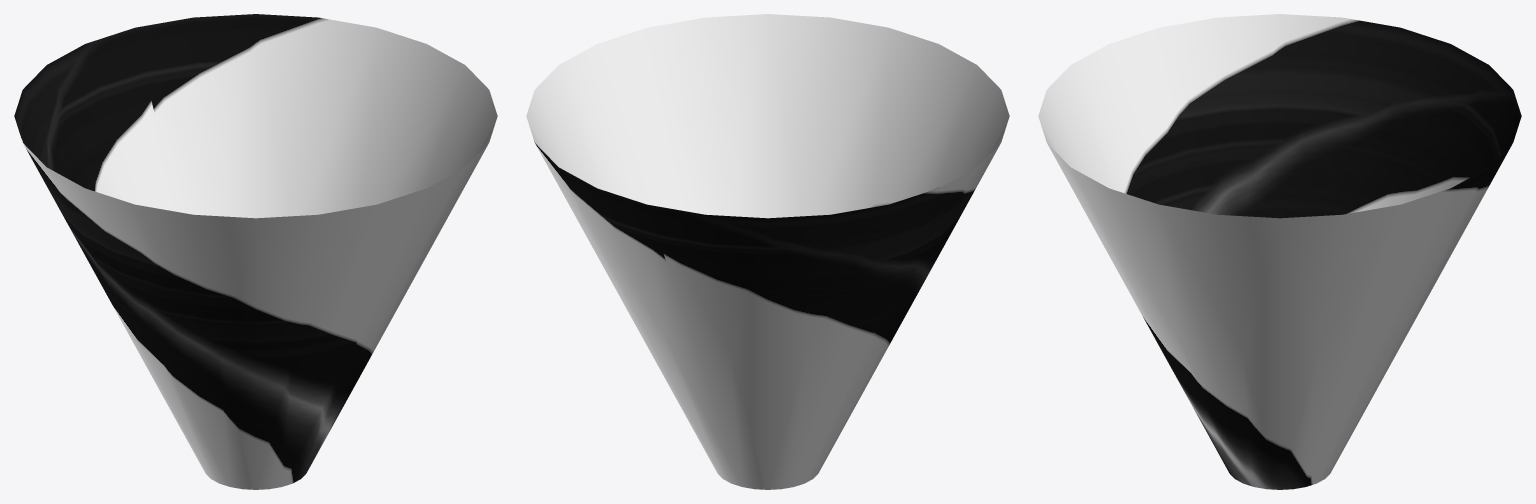
Rendered from luoxuan.FBX.
3 renders of one model, left to right at view 1: azimuth 30°, elevation 25°; view 2: azimuth 150°, elevation 25°; view 3: azimuth 270°, elevation 25°, orthographic.
Parts seen in each view (by area): view 1: Cone001; view 2: Cone001; view 3: Cone001.
Part boxes in pixels (bbox=[...]): Cone001: bbox=[14, 14, 497, 489]; Cone001: bbox=[526, 14, 1009, 489]; Cone001: bbox=[1038, 14, 1521, 489].
Bounding box in the file's own units: 105 × 105 × 84.17.
